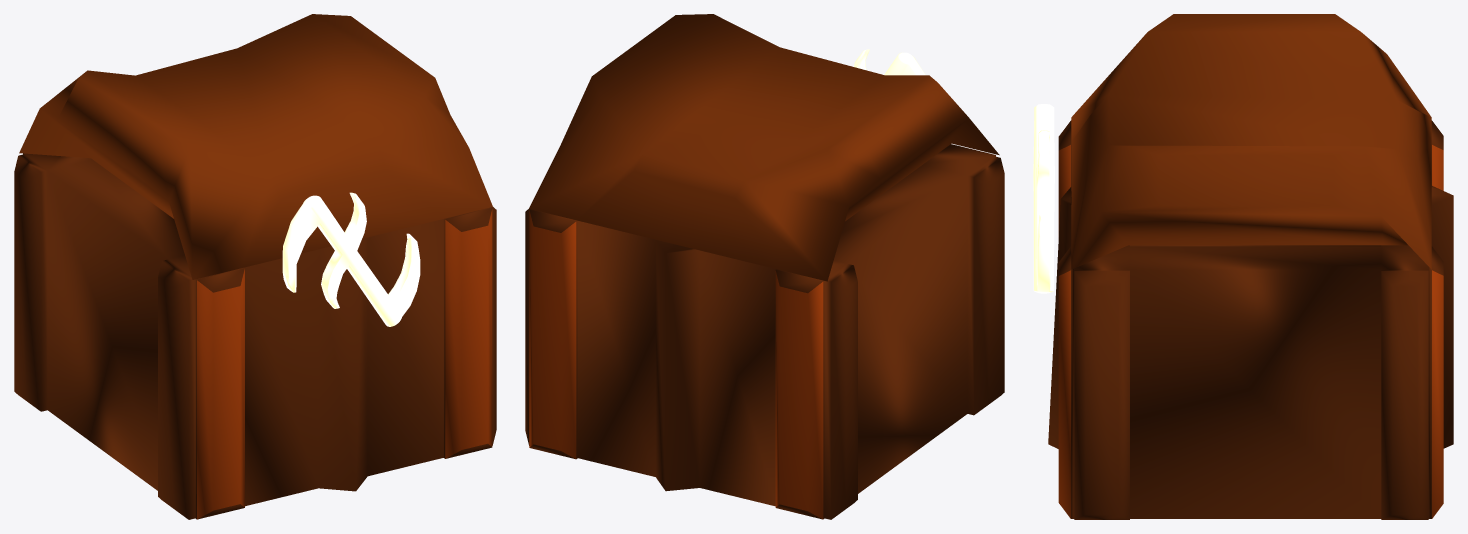
Rendered from Trunk.fbx.
The picture shows the model from 3 angles, left to right: view 1: azimuth 30°, elevation 25°; view 2: azimuth 150°, elevation 25°; view 3: azimuth 270°, elevation 25°; orthographic projection. The views are drawn at different scales.
Parts seen in each view (by area): view 1: Cilindro.012; view 2: Cilindro.012; view 3: Cilindro.012.
Part boxes in pixels (left/top/right/bottom): Cilindro.012: left=14, top=14, right=496, bottom=519; Cilindro.012: left=525, top=14, right=1004, bottom=519; Cilindro.012: left=1033, top=14, right=1453, bottom=519.
Size of the model in its own units: 218 by 224 by 237.
